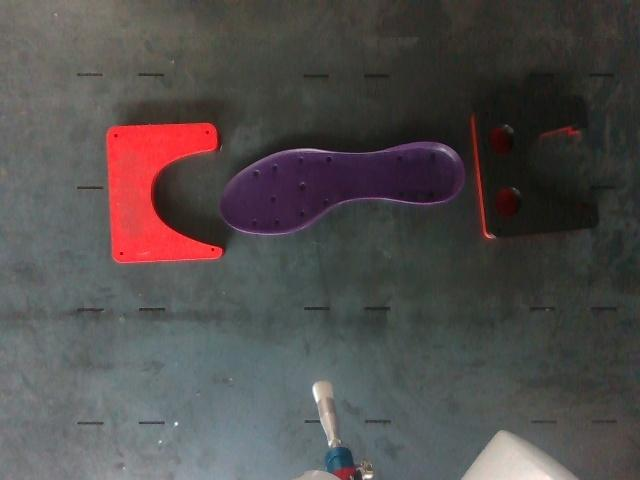shoes: (221, 145, 460, 234)
